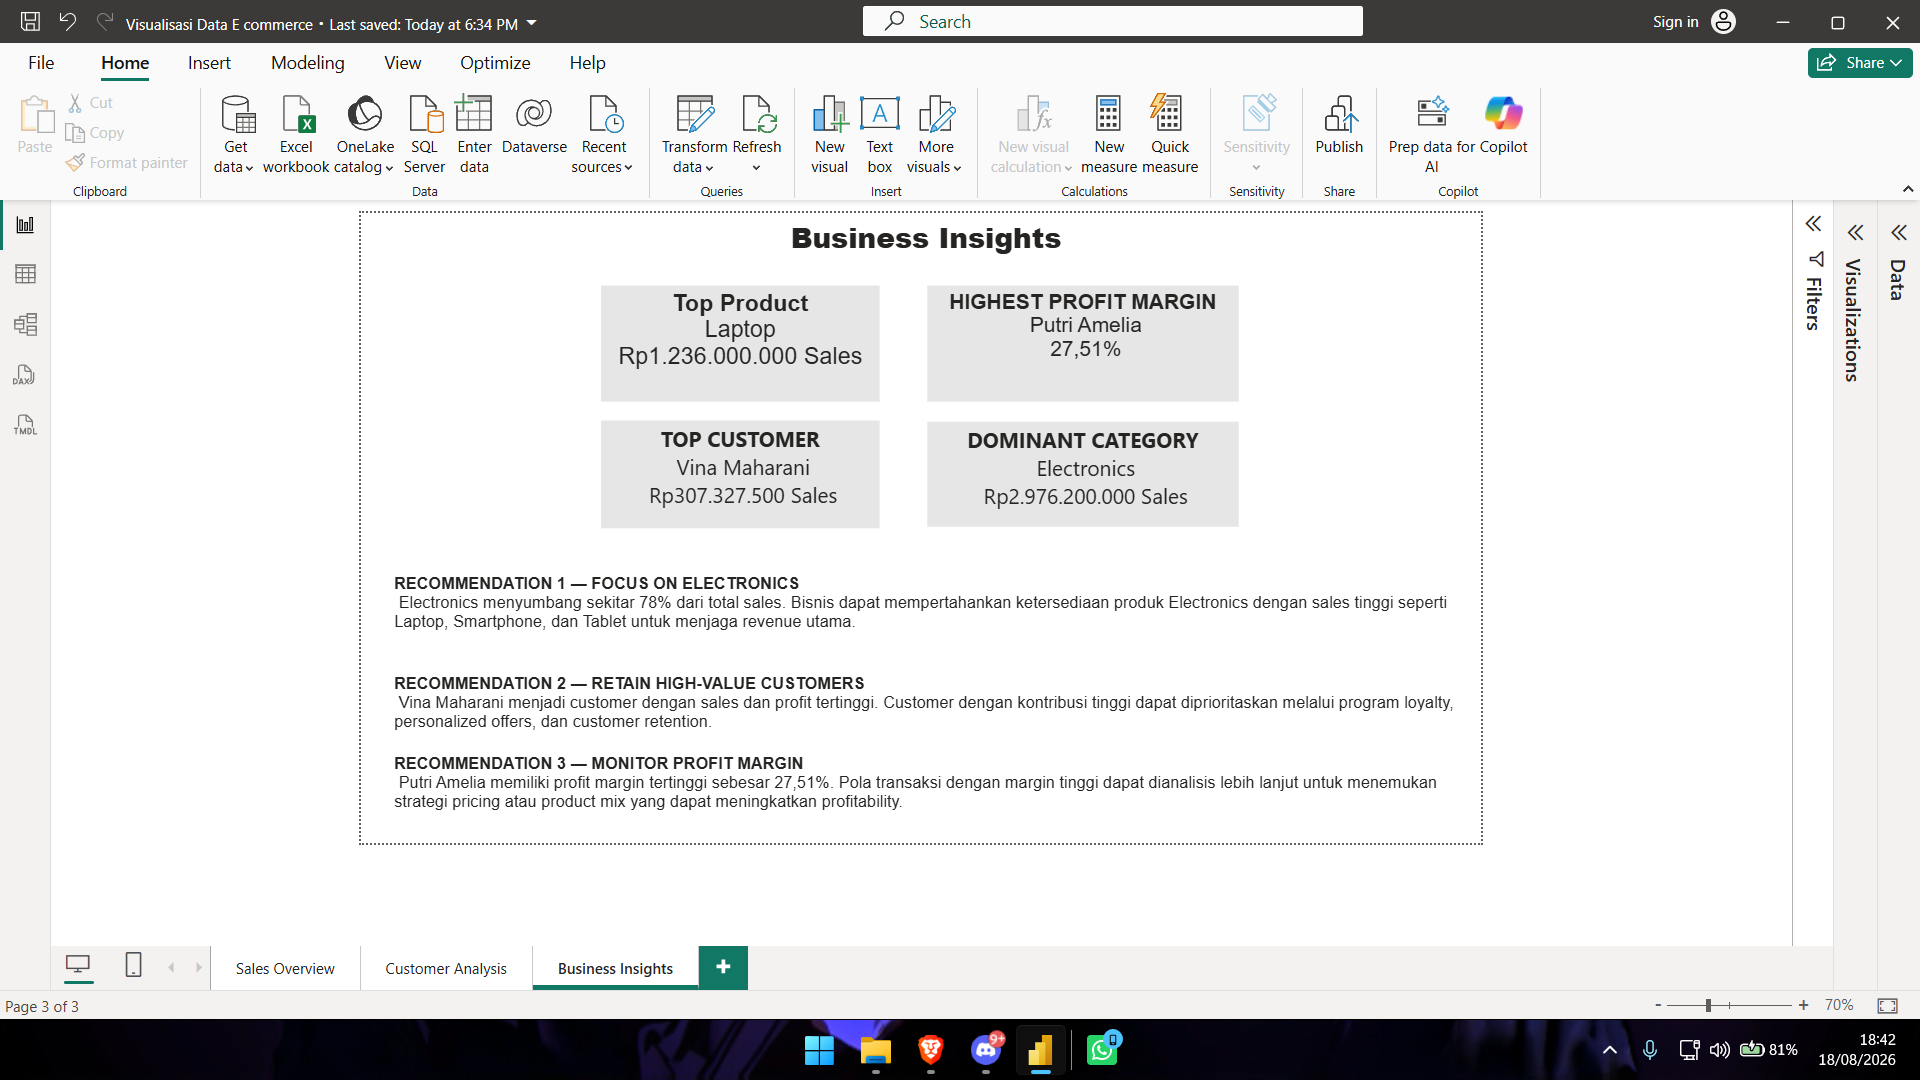

This screenshot's page, from the dashboard's own definition file:
{"tool":"powerbi","page":{"name":"Business Insights","canvas":[1280,720],"ordinal":2},"visuals":[{"type":"textbox","box":[274.3,82.9,318.6,132.9],"z":0},{"type":"textbox","box":[274.3,237.1,318.6,122.9],"z":1},{"type":"textbox","box":[647.1,82.9,355.7,132.9],"z":2},{"type":"textbox","box":[647.1,238.6,355.7,120],"z":3},{"type":"textbox","box":[32.9,408.6,1225.7,114.3],"z":4},{"type":"textbox","box":[32.9,522.9,1225.7,91.4],"z":5},{"type":"textbox","box":[32.9,614.3,1225.7,105.7],"z":6},{"type":"textbox","box":[465.7,0,360,64.3],"z":7}]}

Visuals, with their boxes on the page's 1280x720 design canvas (x1, y1, x2, y2). These are canvas units, not pixel positions in the 1920x1080 screenshot, which may show the page scaled, cropped or inside an application window:
textbox: [274, 83, 593, 216]
textbox: [274, 237, 593, 360]
textbox: [647, 83, 1003, 216]
textbox: [647, 239, 1003, 359]
textbox: [33, 409, 1259, 523]
textbox: [33, 523, 1259, 614]
textbox: [33, 614, 1259, 720]
textbox: [466, 0, 826, 64]
